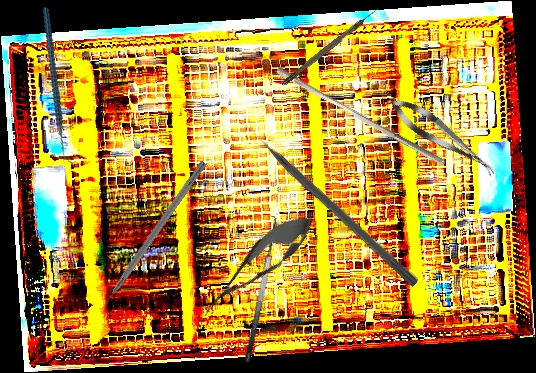Chopper: (12, 6, 106, 168)
Hook Surgical: (95, 159, 207, 314), (280, 5, 382, 87)
Micro Scissor: (192, 201, 325, 326), (384, 90, 502, 183)
Pusher: (243, 121, 421, 288), (271, 65, 451, 168)
Spatula Surgical: (231, 214, 285, 363)
